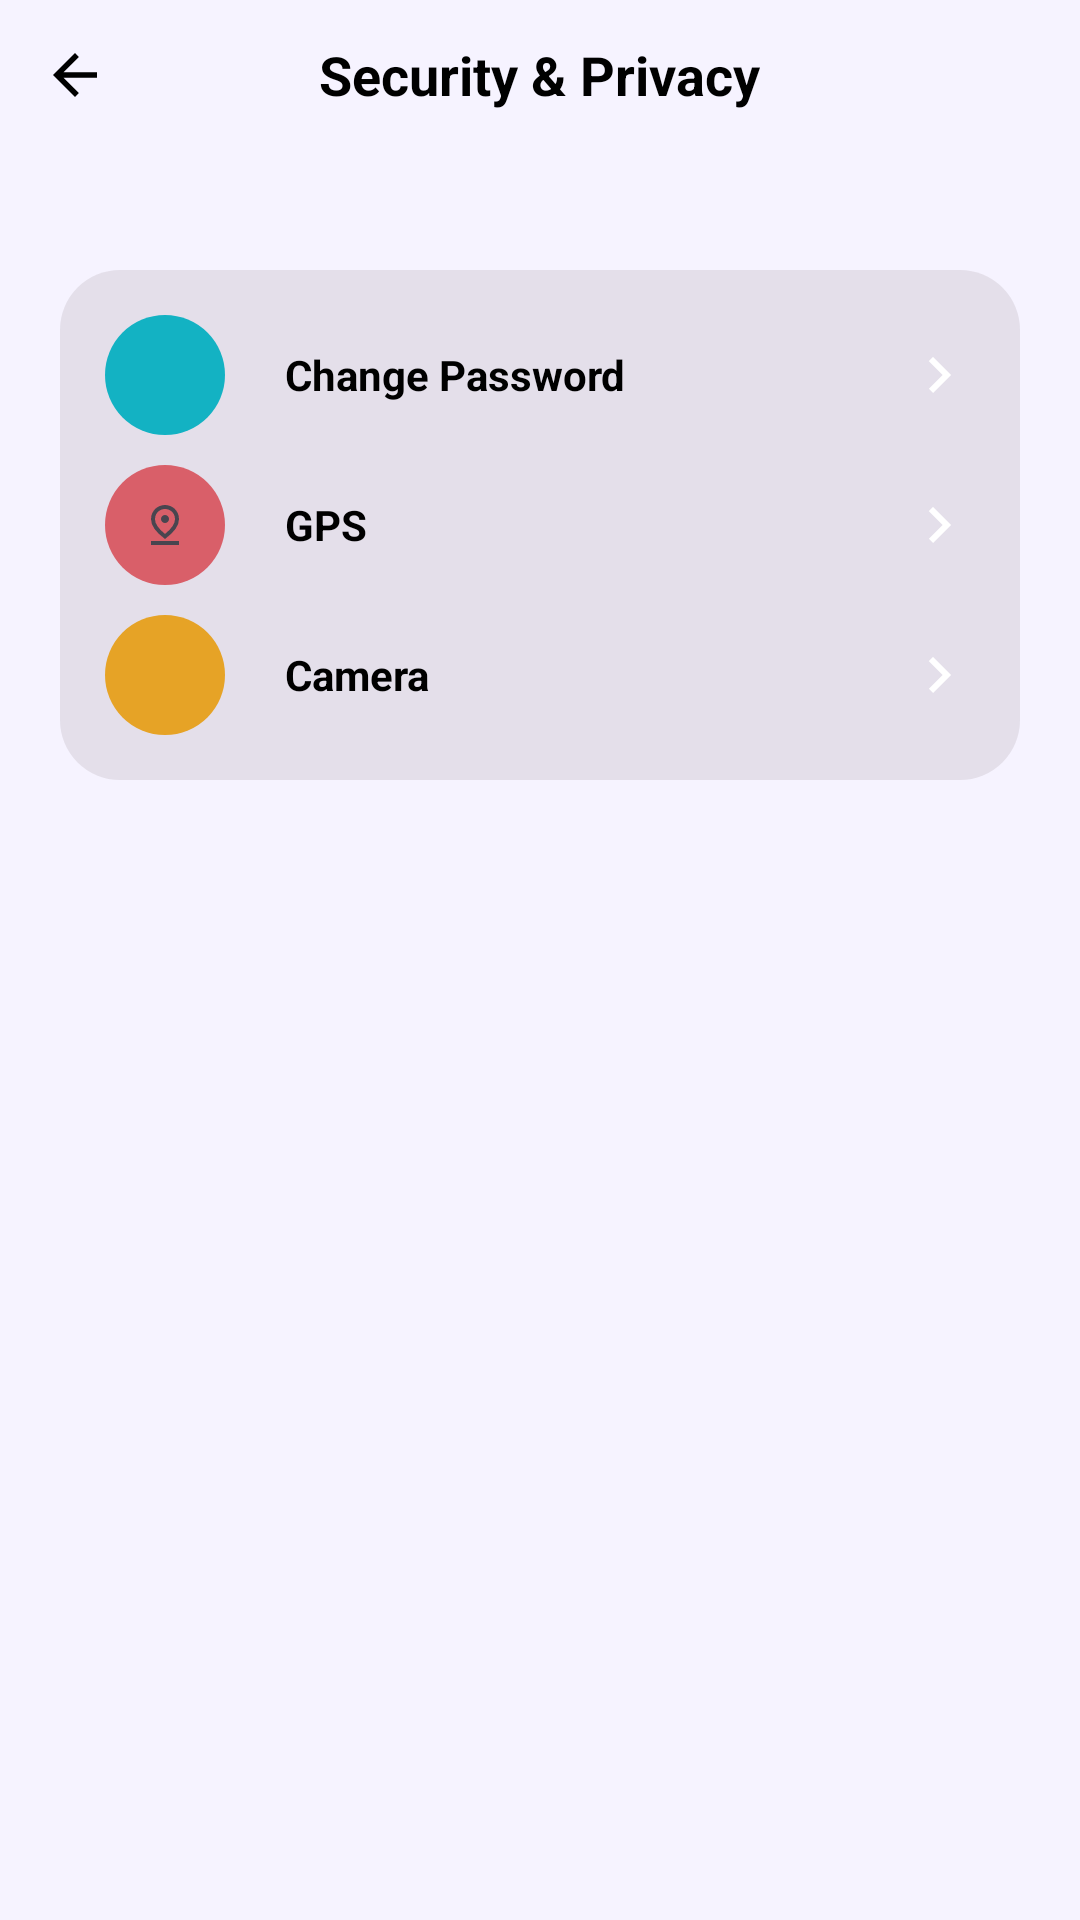

Named icons in this screenshot (1080*1920) and their bounding boxes, (x1, y1, x2, y2):
back: (53, 53, 97, 97)
keyboard arrow right: (929, 358, 950, 392), (929, 508, 950, 542), (929, 658, 950, 692)
